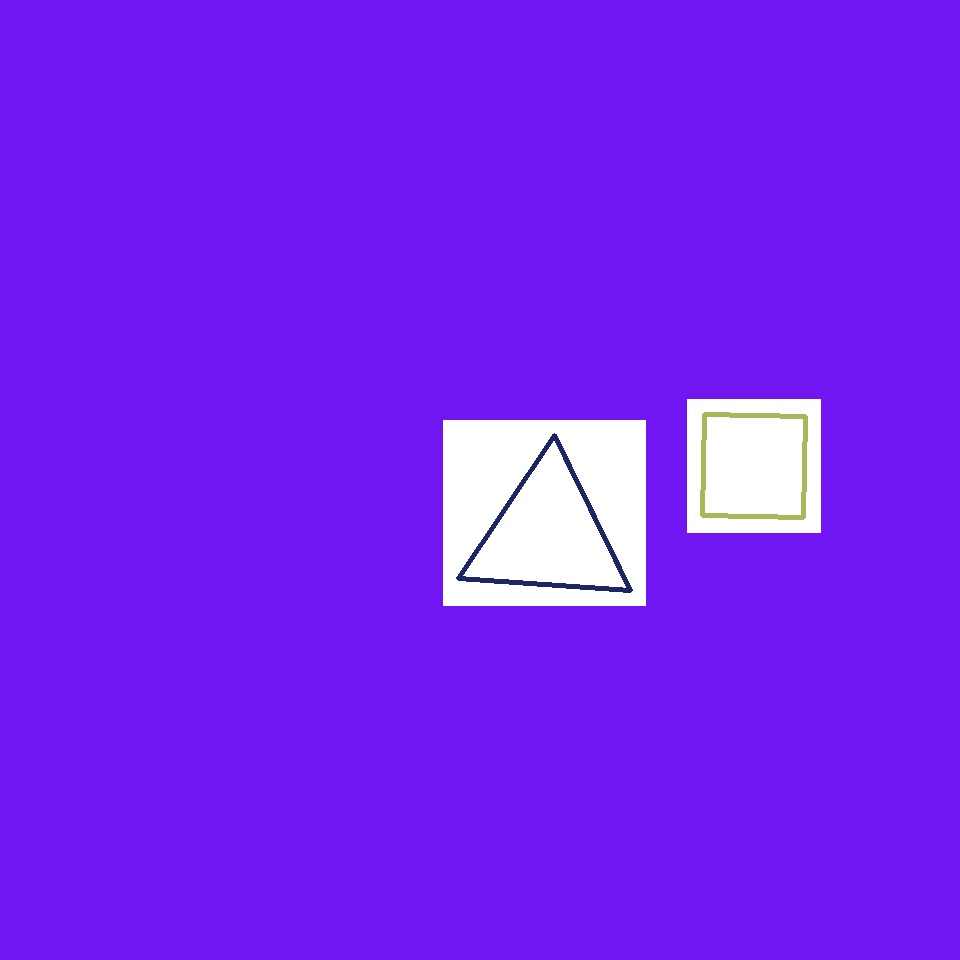circle: (462, 457, 634, 612), (595, 599, 723, 725)
square: (702, 414, 805, 518)
triangle: (514, 105, 894, 486), (60, 418, 418, 775), (216, 420, 522, 728), (340, 11, 626, 297)
